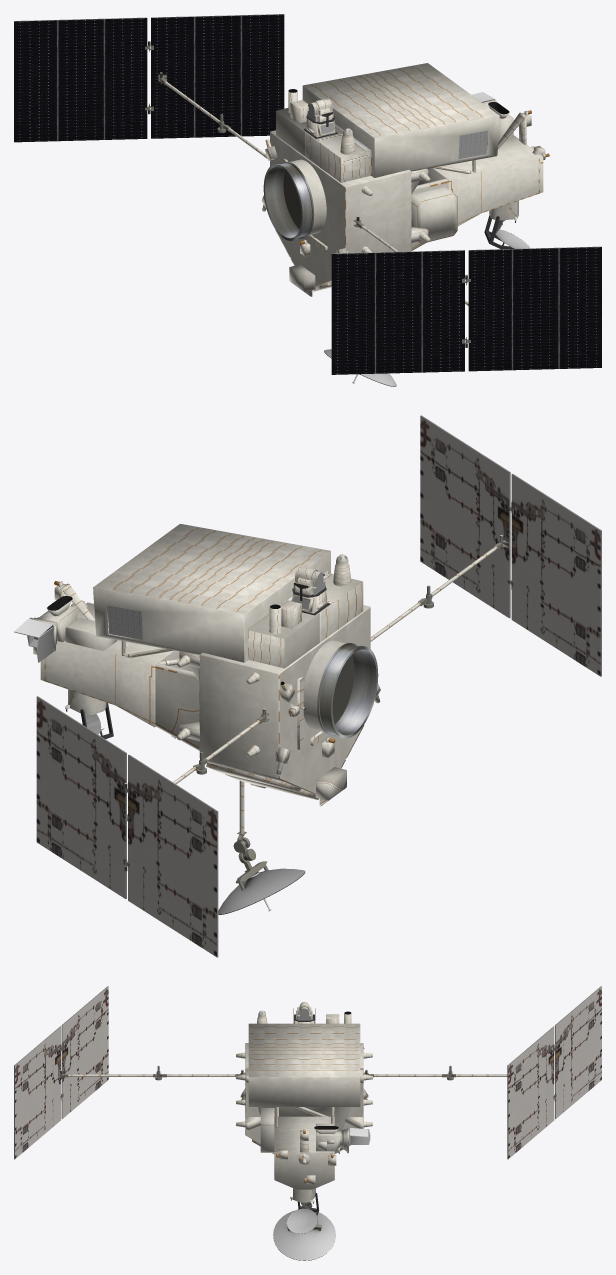
File: TRMM.glb
3 views of the same model, one above another, from view 1: azimuth 30°, elevation 25°; view 2: azimuth 150°, elevation 25°; view 3: azimuth 270°, elevation 25° (orthographic). The views are drawn at different scales.
Parts seen in each view (by area): view 1: shiny_panel, BUS, foil_white_2, tex_01, AO_dish; view 2: tex_01, BUS, foil_white_2, shiny_panel, AO_dish; view 3: tex_01, BUS, AO_dish, foil_white_2.
Boxes of the visible parts, x1,y1,x2,y2 form: shiny_panel: [14, 14, 601, 374]; BUS: [270, 63, 543, 291]; foil_white_2: [164, 81, 545, 305]; tex_01: [14, 14, 601, 386]; AO_dish: [324, 92, 529, 386]; tex_01: [27, 415, 601, 957]; BUS: [29, 524, 370, 799]; foil_white_2: [33, 546, 497, 833]; shiny_panel: [107, 572, 378, 738]; AO_dish: [14, 618, 304, 914]; tex_01: [14, 986, 601, 1260]; BUS: [245, 1023, 363, 1202]; AO_dish: [273, 1127, 370, 1260]; foil_white_2: [68, 1001, 507, 1184].
Bounding box in the file's own units: 6.34 × 5.44 × 12.62.
Materials: 5 (5 with a texture image).
